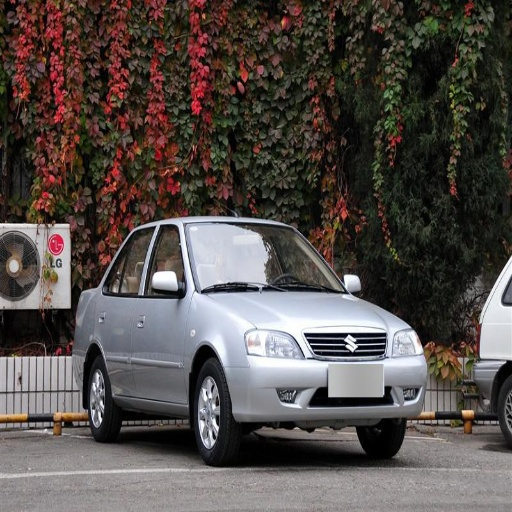front_bumper: (227, 324, 427, 424)
front_right_door: (133, 224, 185, 403)
front_right_light: (245, 326, 305, 359)
hood: (208, 293, 393, 333)
